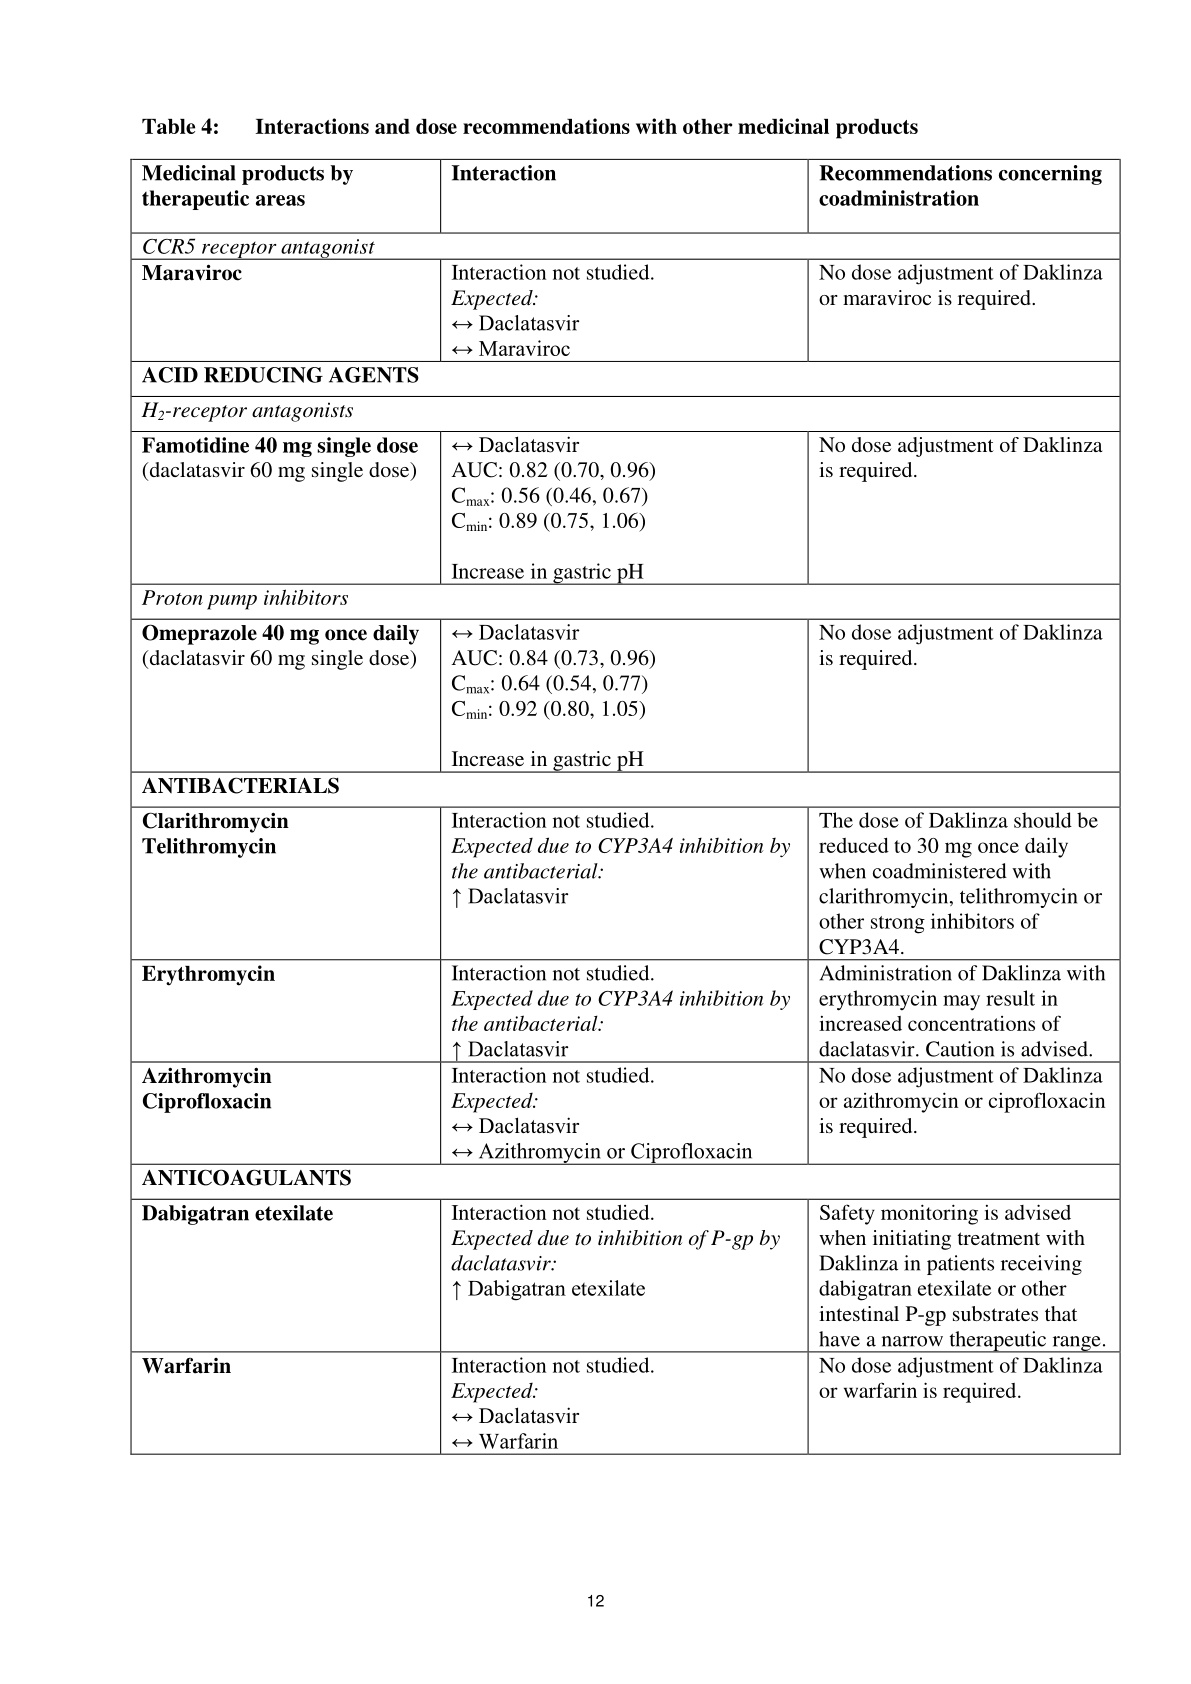merged_cells: (130, 157, 1121, 1456)
